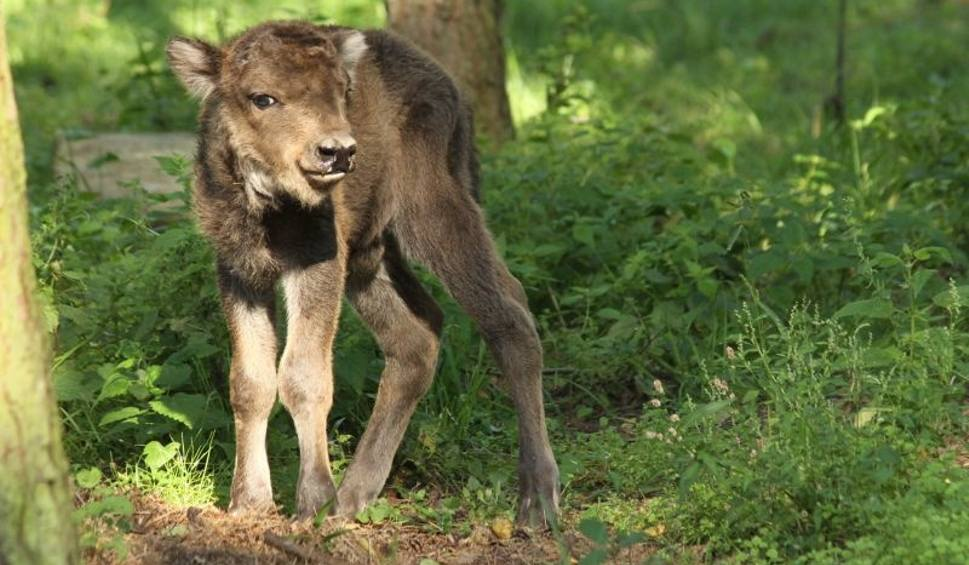zubr: (138, 12, 614, 538)
